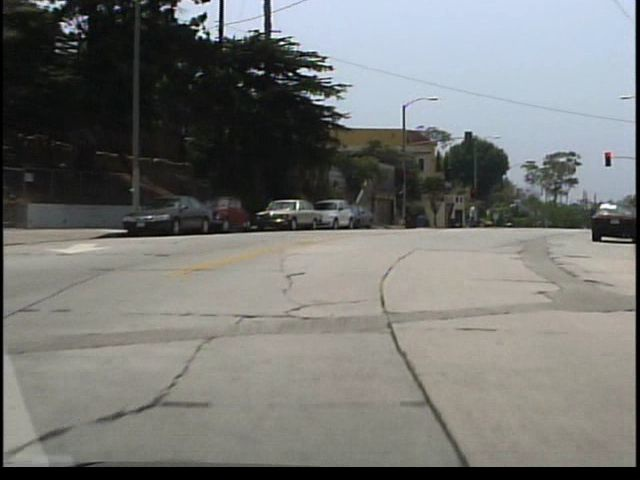person: (470, 204, 478, 229)
